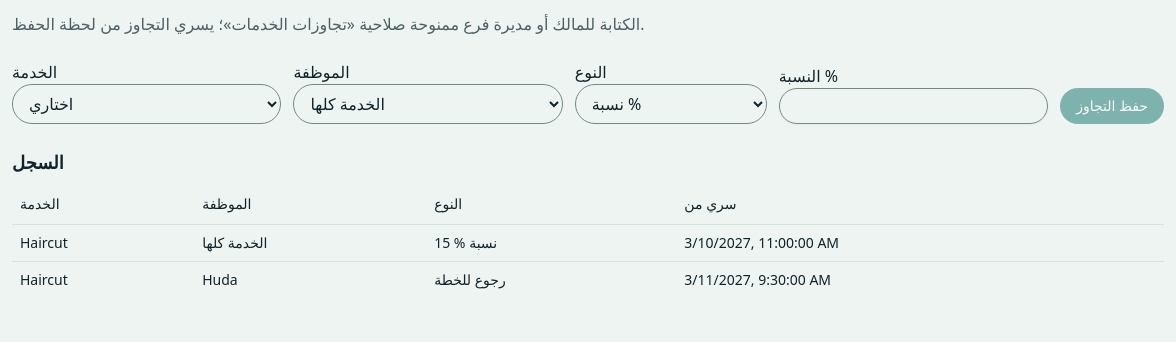
it: targets a staff member with a fixed amount and clears back to the plan
The width and height of the screenshot is (1176, 342).
Later steps or results of the test are not shown.
Select "Haircut" in the dropdown labelled "الخدمة" at (147, 104), box [12, 84, 281, 124]
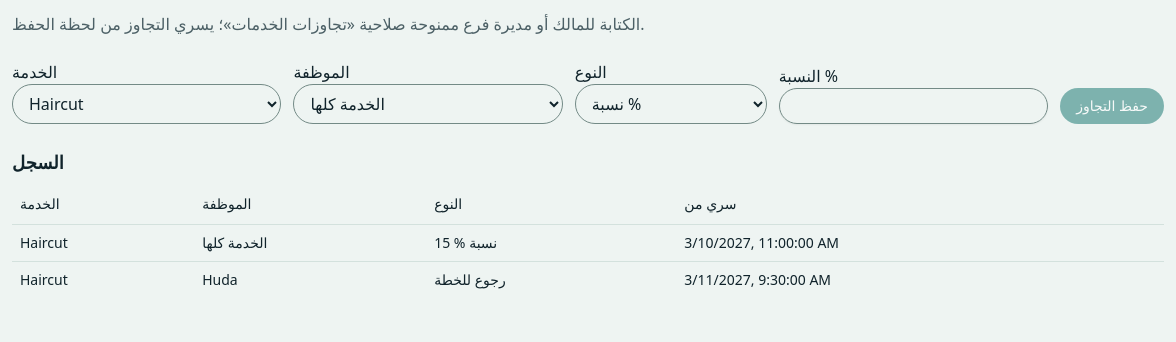
Select "Huda" in the dropdown labelled "الموظفة" at (428, 104), box [293, 84, 563, 124]
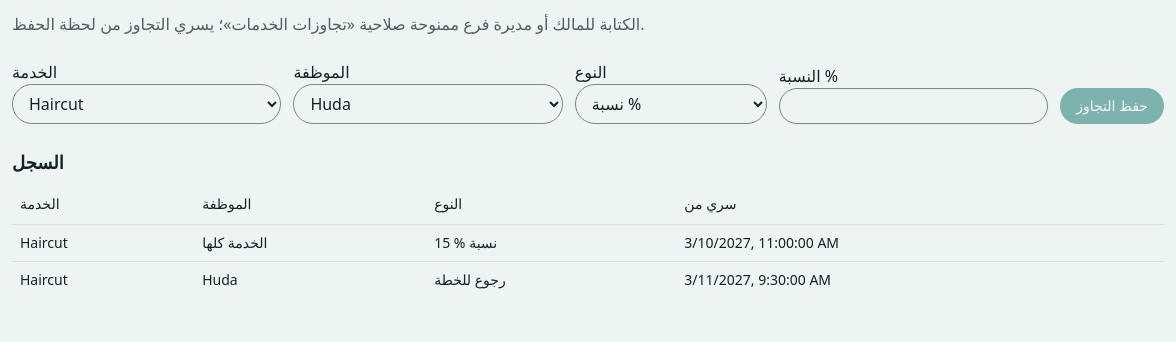
Select "مبلغ لكل جلسة" in the dropdown labelled "النوع" at (671, 104), box [575, 84, 767, 124]
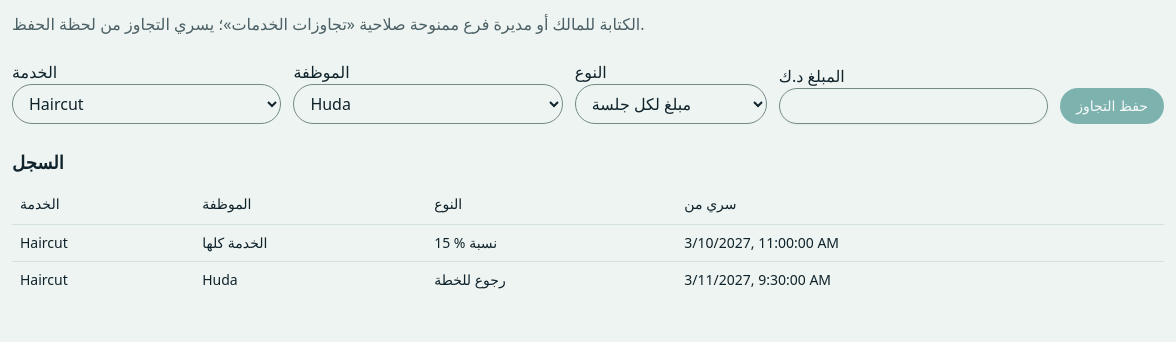
Type "5.000" into the field labelled "المبلغ د.ك".
click(914, 106); type("5.000")  # box [779, 88, 1048, 124]
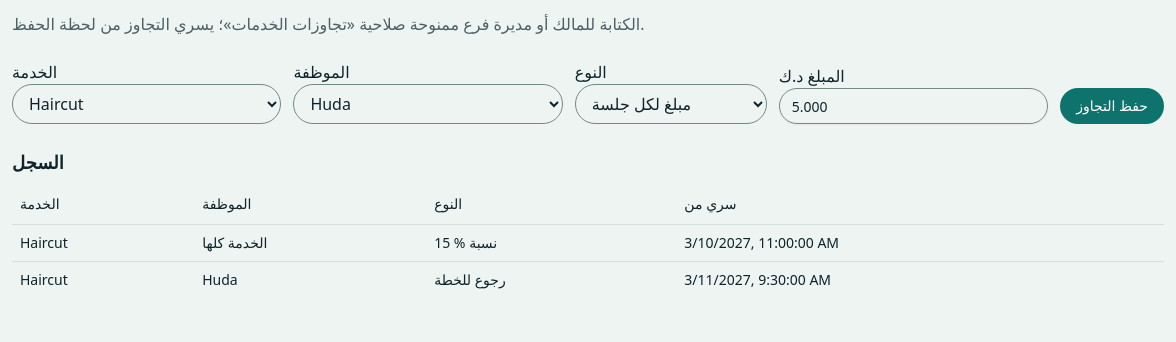
Click the button "حفظ التجاوز".
click(1112, 106)  # box [1060, 88, 1164, 124]
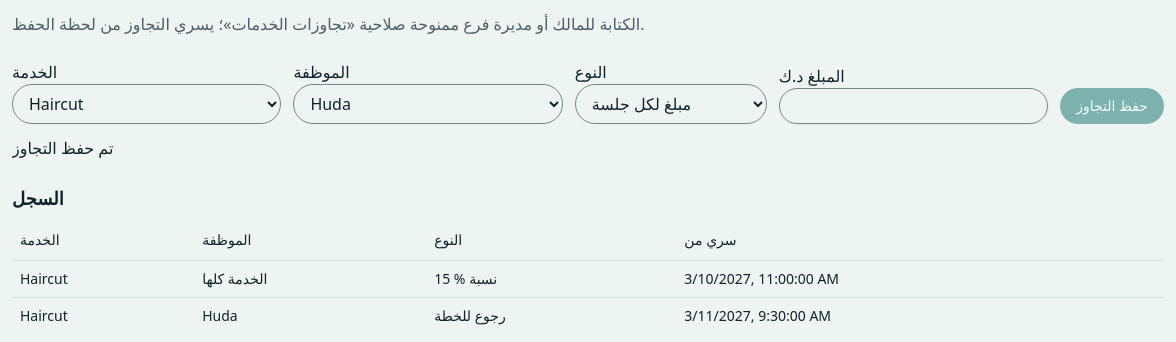
Now the text "تم حفظ التجاوز" is shown, box [12, 137, 113, 159]
Select "رجوع للخطة" in the dropdown labelled "النوع" at (671, 104), box [575, 84, 767, 124]
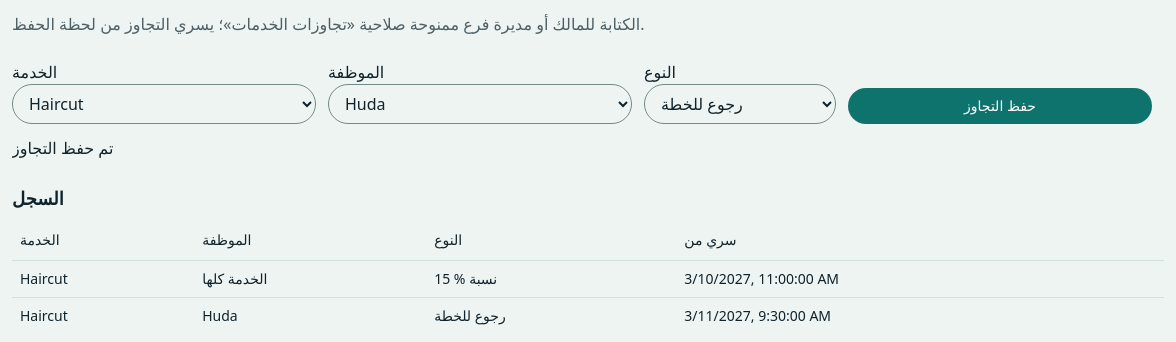
Now the text labelled "المبلغ د.ك" is gone
